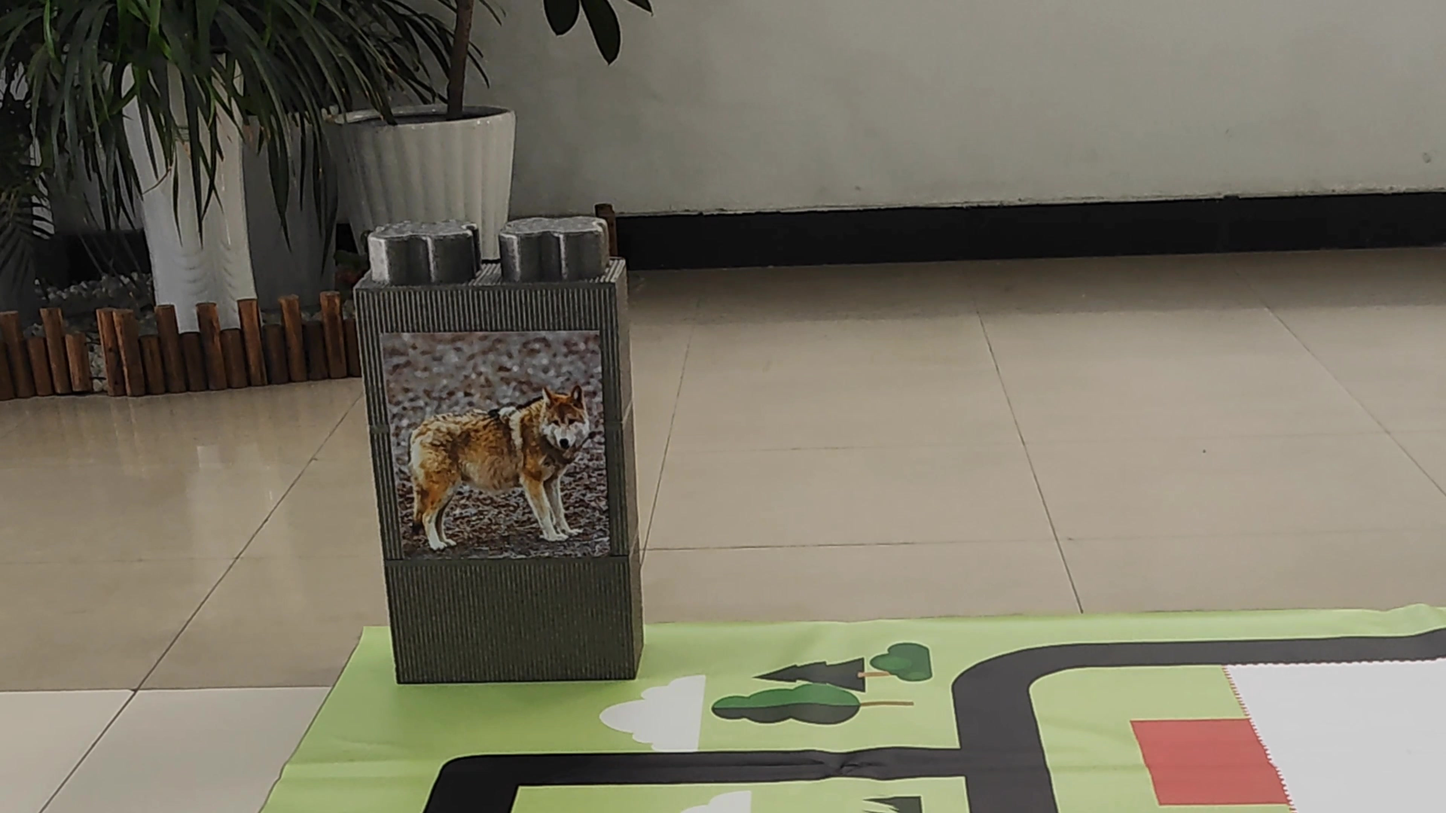wolf: (386, 370, 607, 560)
